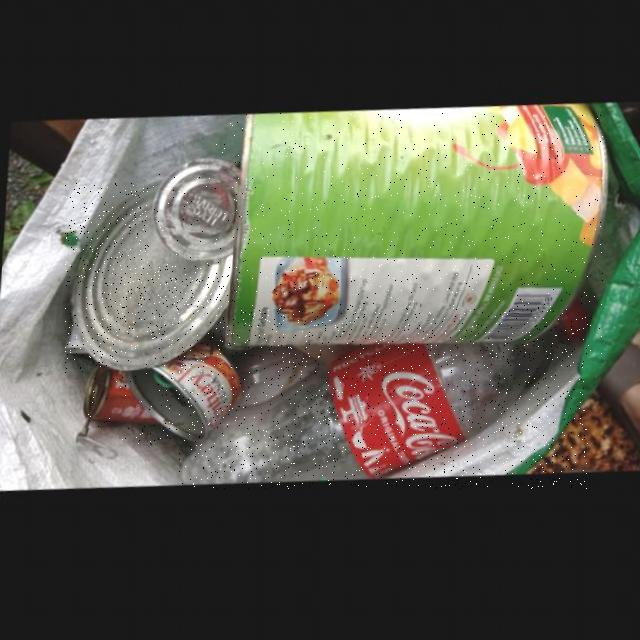metal: (213, 113, 603, 353), (66, 183, 231, 374), (120, 340, 239, 445), (149, 162, 233, 264), (84, 368, 158, 428)
plastic: (180, 309, 588, 489)
